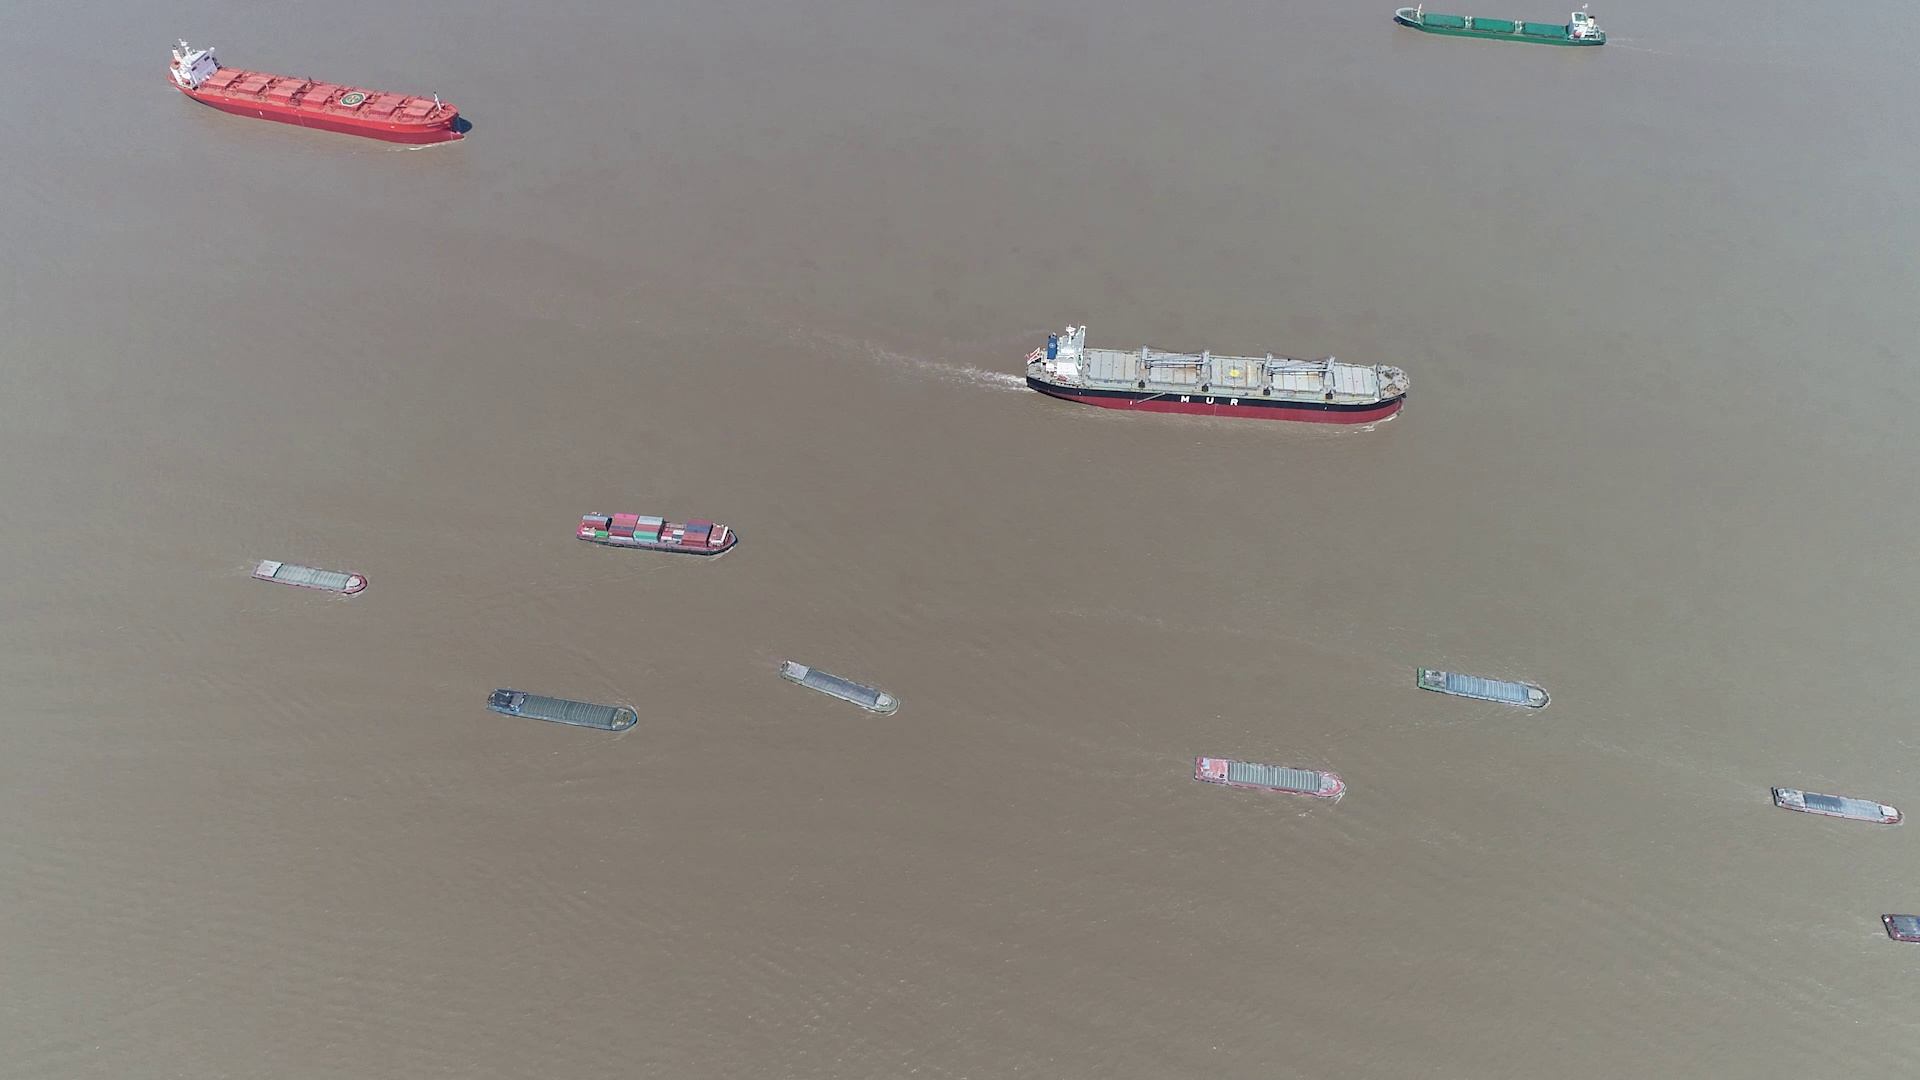ship: (1025, 332, 1411, 425), (166, 40, 465, 144), (1393, 8, 1606, 47), (578, 510, 738, 555), (487, 688, 638, 733), (781, 659, 899, 713), (1195, 756, 1344, 796), (1416, 669, 1552, 709), (1768, 785, 1903, 824), (252, 559, 367, 593), (1880, 913, 1919, 943)
